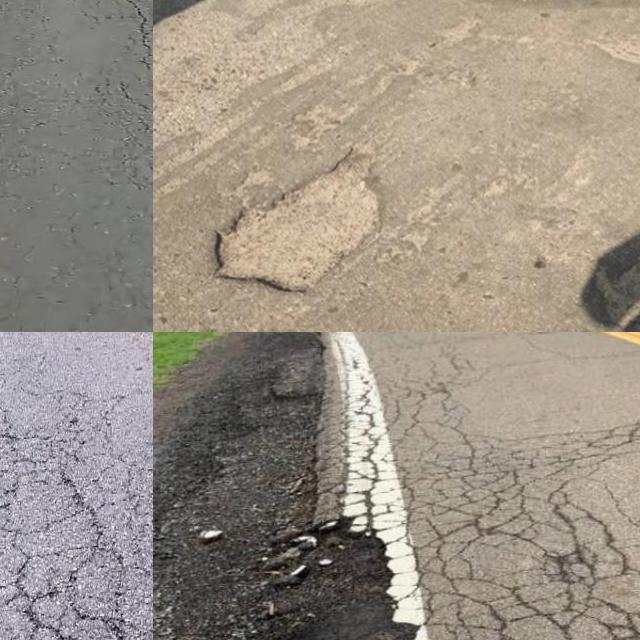Lubang: (209, 163, 390, 292)
Pinggir: (184, 522, 419, 640)
Retak Buaya: (306, 379, 640, 640), (0, 419, 153, 640)
